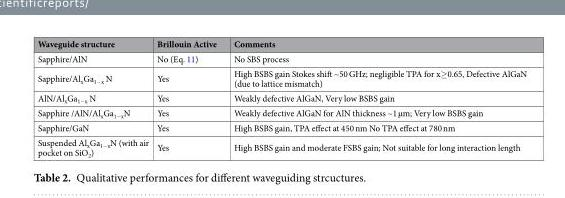table: (36, 37, 526, 158)
table column: (224, 37, 526, 158), (36, 37, 152, 158), (152, 37, 224, 158)
table column header: (36, 37, 526, 50)
table row: (36, 65, 526, 90), (36, 134, 526, 158), (36, 50, 526, 65), (36, 90, 526, 105), (36, 105, 526, 120), (36, 120, 526, 134), (36, 37, 526, 50)
